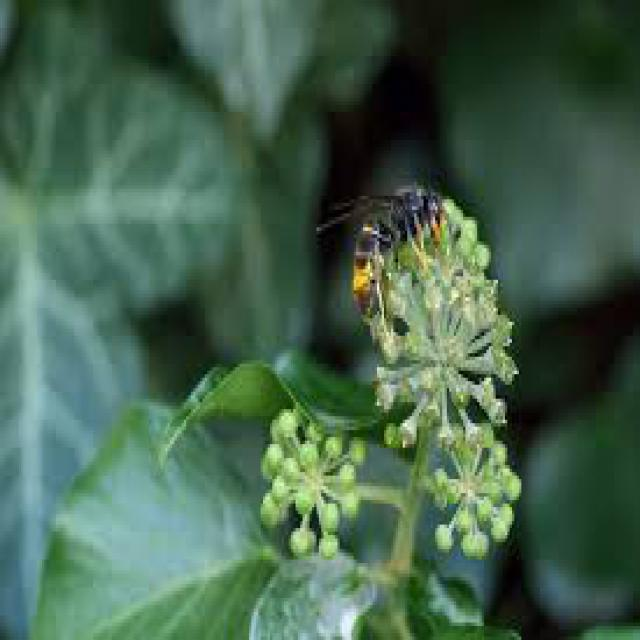Vespa Velutina: (311, 180, 447, 346)
